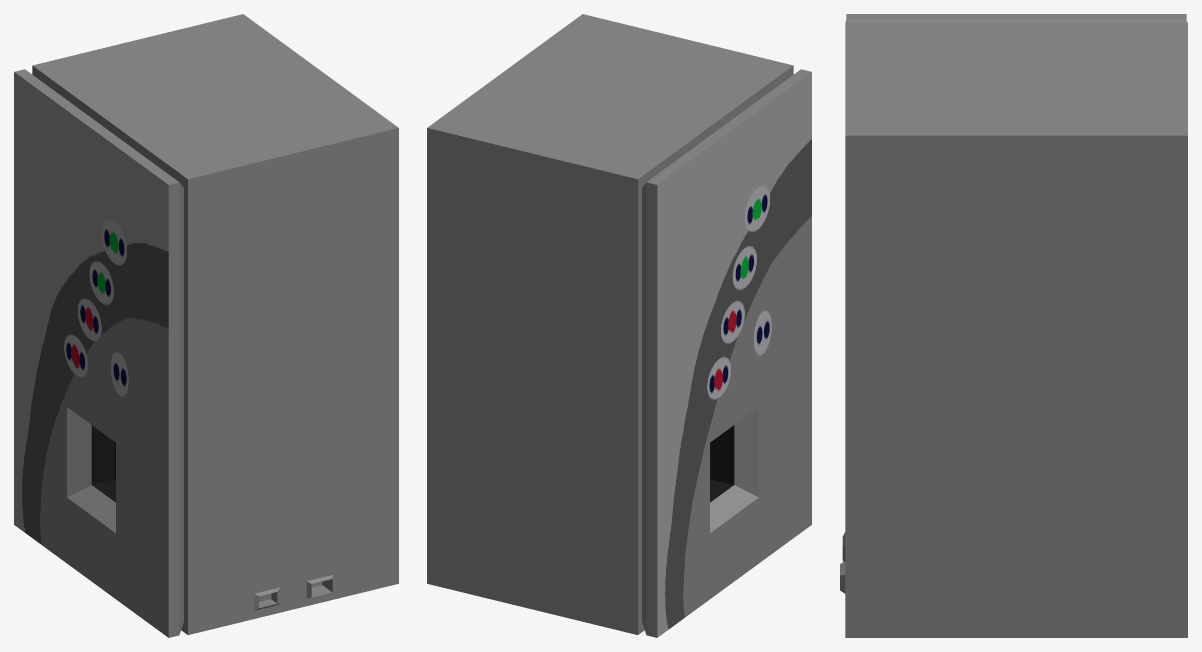
Rendered from tea.fbx.
3 views of the same model, side by side, from view 1: azimuth 30°, elevation 25°; view 2: azimuth 150°, elevation 25°; view 3: azimuth 270°, elevation 25° (orthographic). The views are drawn at different scales.
Parts seen in each view (by area): view 1: Cube; view 2: Cube; view 3: Cube.
Boxes of the visible parts, x1,y1,x2,y2 form: Cube: (14, 14, 398, 637); Cube: (427, 14, 811, 637); Cube: (840, 14, 1187, 637).
Size of the model in its own units: 105 by 200 by 126.
